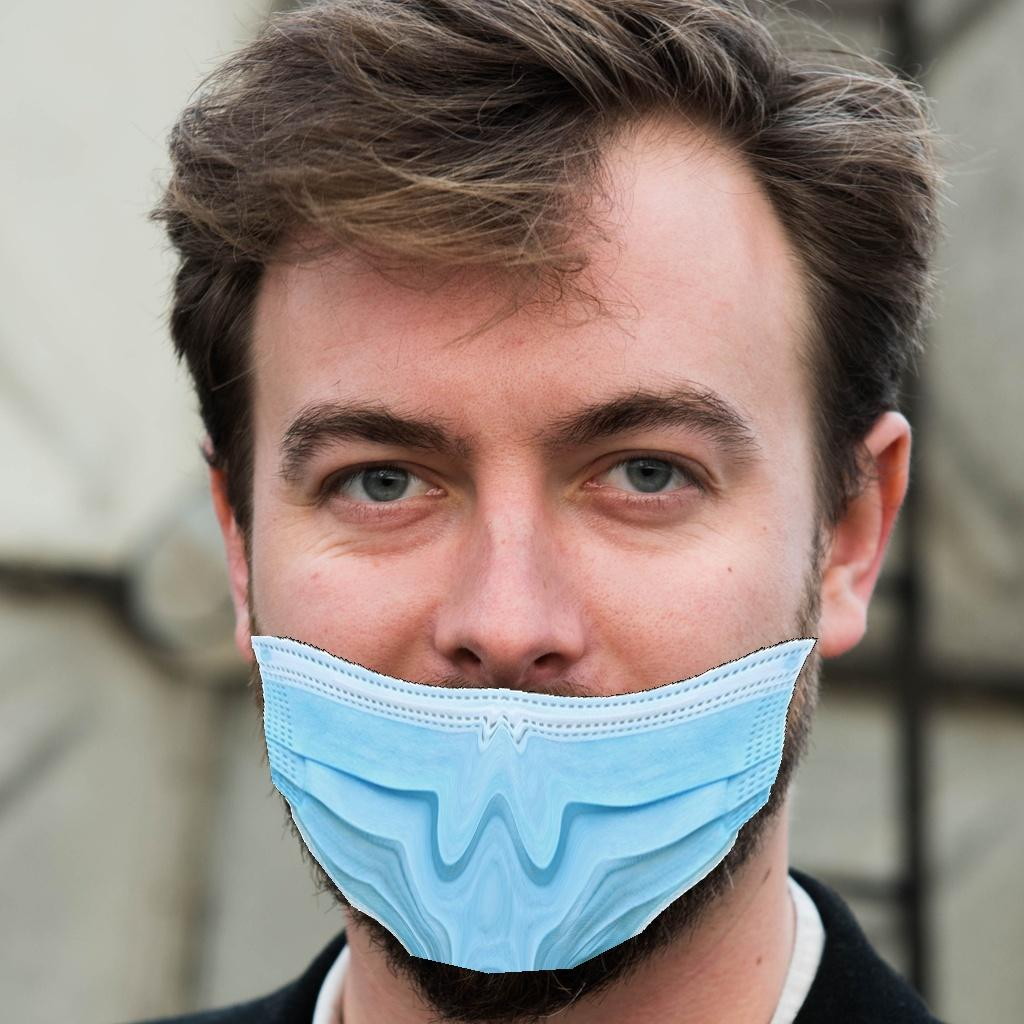Máscara Incorreta: (236, 250, 818, 978)
